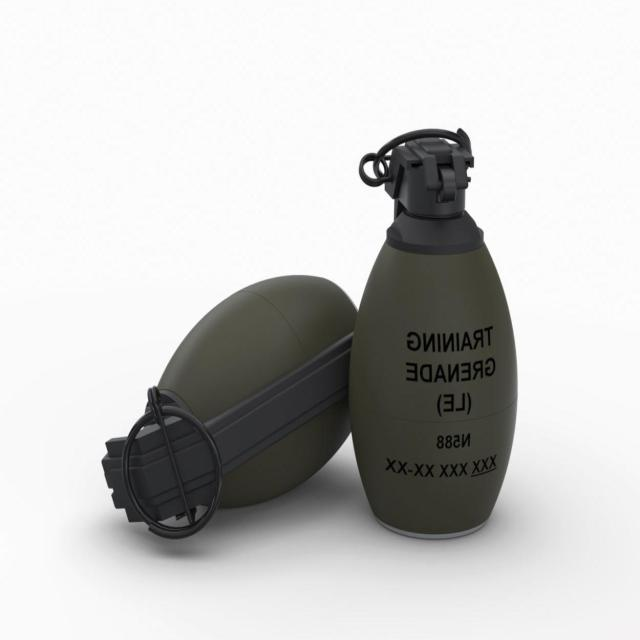grenade: (352, 129, 520, 541), (103, 276, 358, 541)
